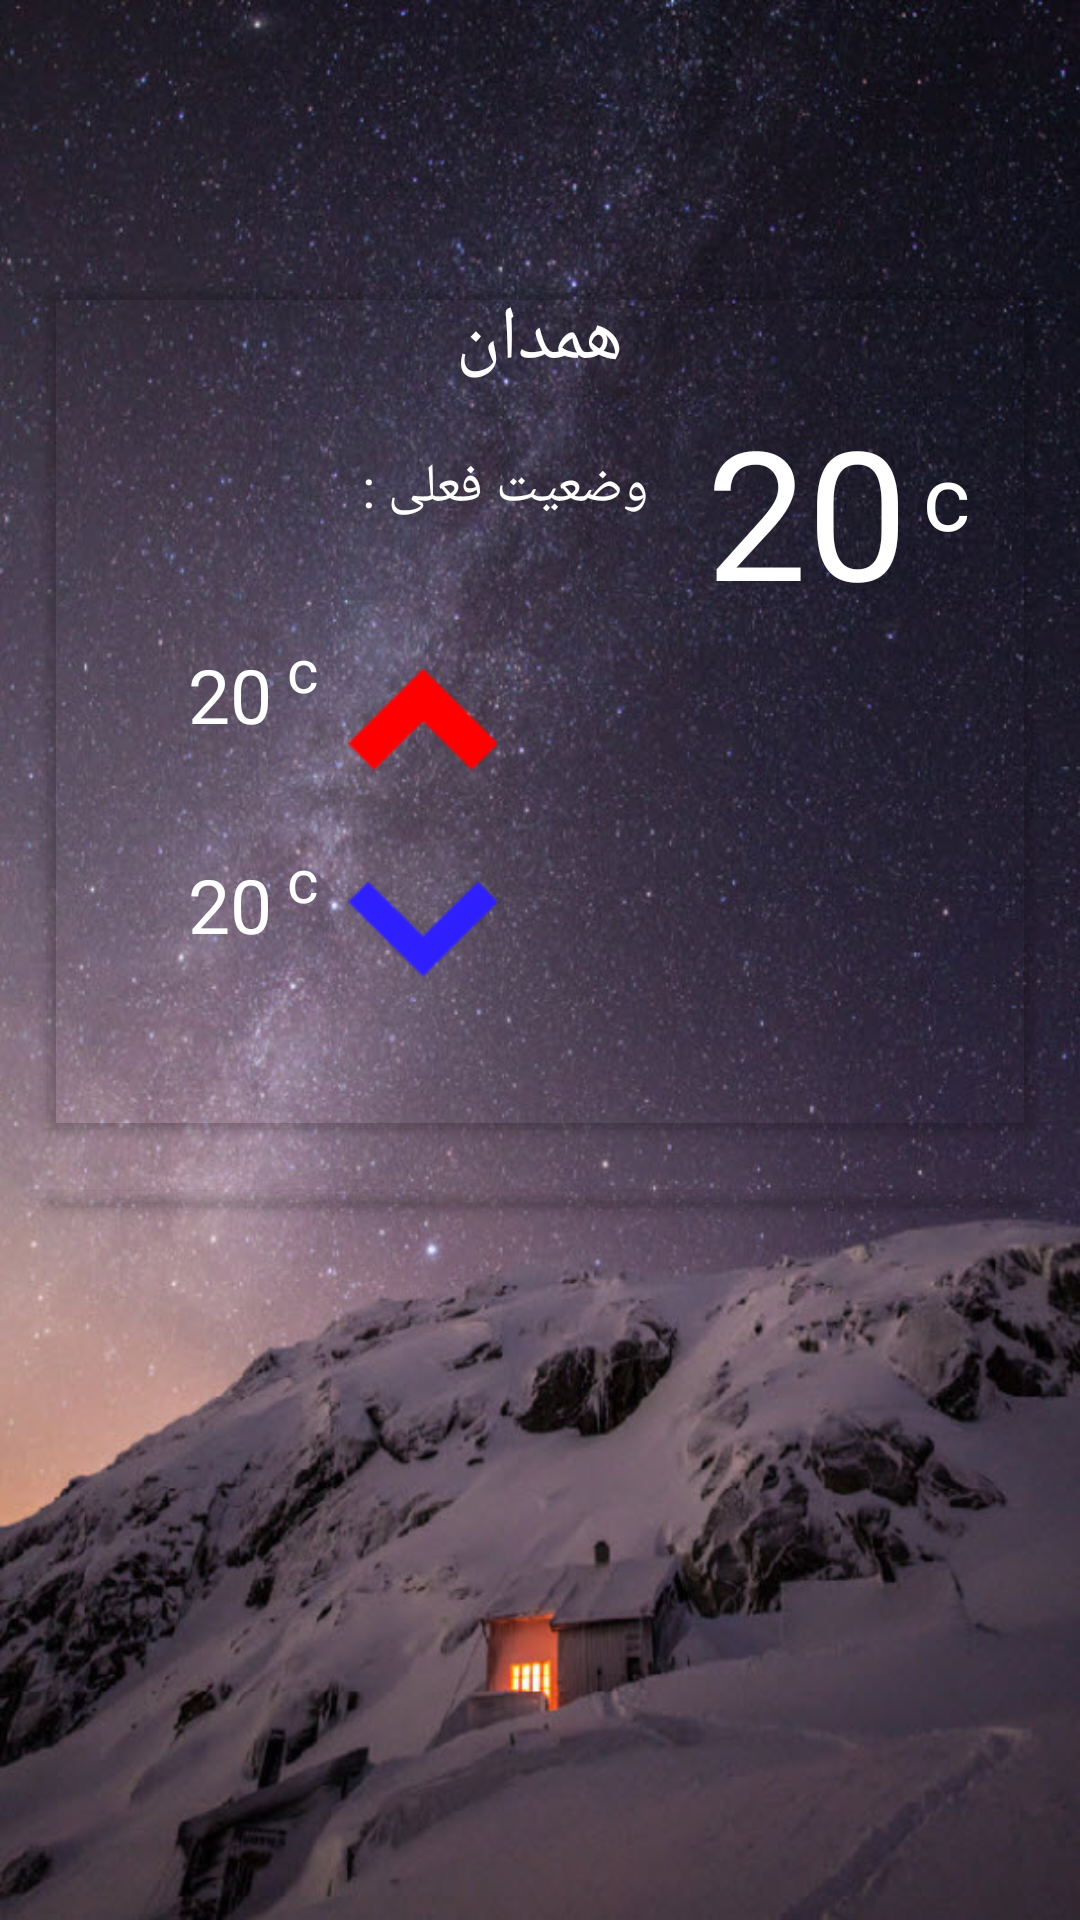

Where to tap for icons on this 1080 x 1920 app screen, as point (x, y):
arrow down: point (423, 929)
arrow up: point (423, 719)
